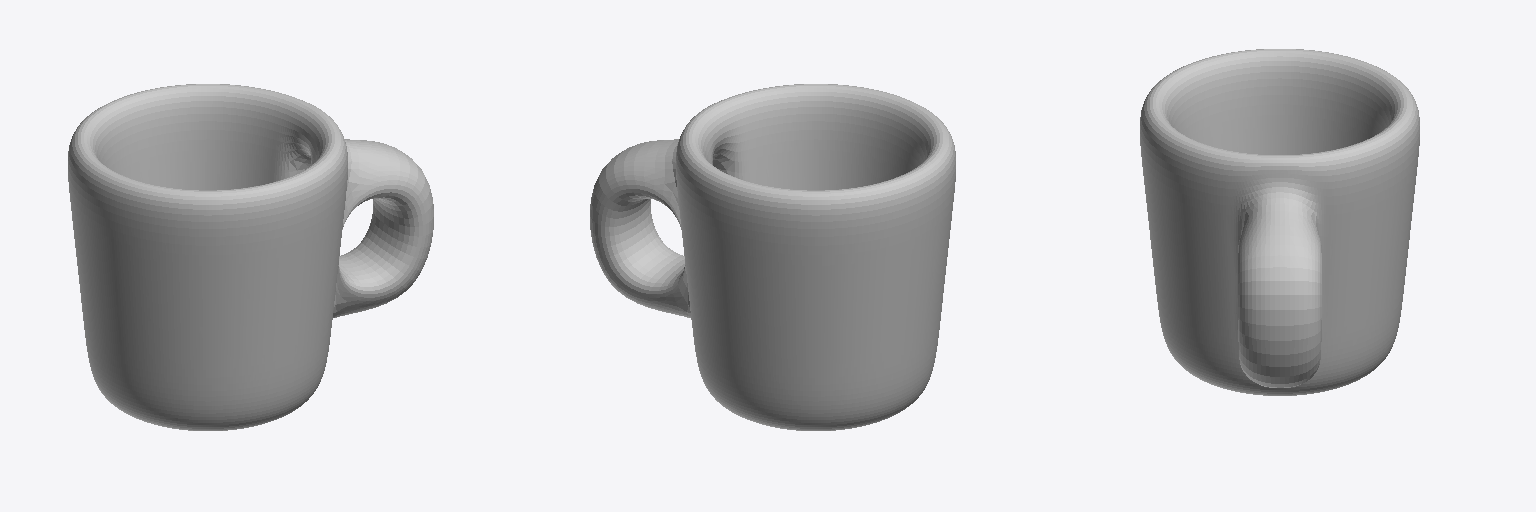
File: colored-cup.obj
3 renders of one model, left to right at view 1: azimuth 30°, elevation 25°; view 2: azimuth 150°, elevation 25°; view 3: azimuth 270°, elevation 25°, orthographic.
Parts seen in each view (by area): view 1: Circle.001; view 2: Circle.001; view 3: Circle.001.
Part boxes in pixels (bbox=[...]): Circle.001: bbox=[68, 84, 433, 430]; Circle.001: bbox=[590, 84, 955, 430]; Circle.001: bbox=[1140, 49, 1419, 395].
Size of the model in its own units: 0.2286 by 0.1676 by 0.1638.